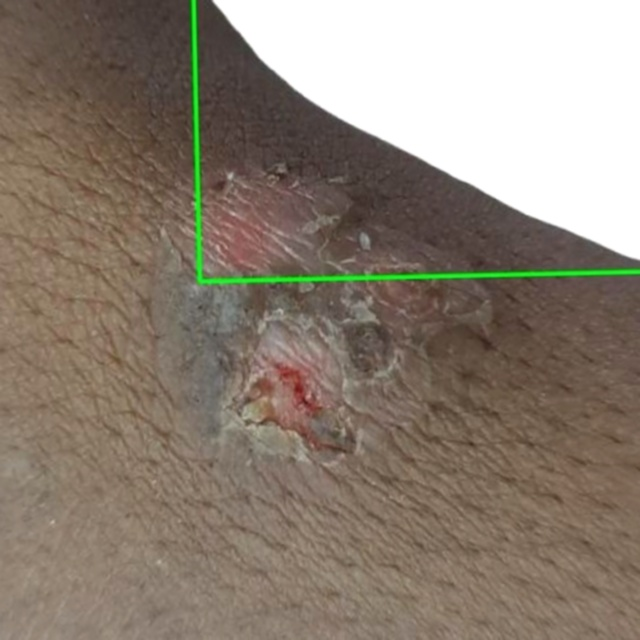Contact Dermatitis: (193, 0, 639, 281)
